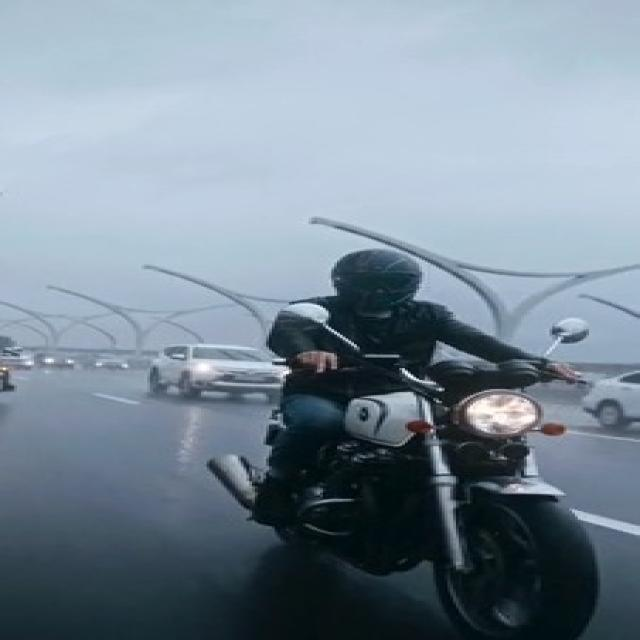Helmet_Wearer: (328, 249, 437, 310)
Jacket_Wearer: (263, 296, 541, 396)
Person: (276, 249, 554, 495)
